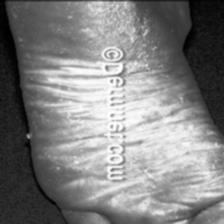Toxin: (95, 0, 125, 22), (138, 162, 170, 178)
